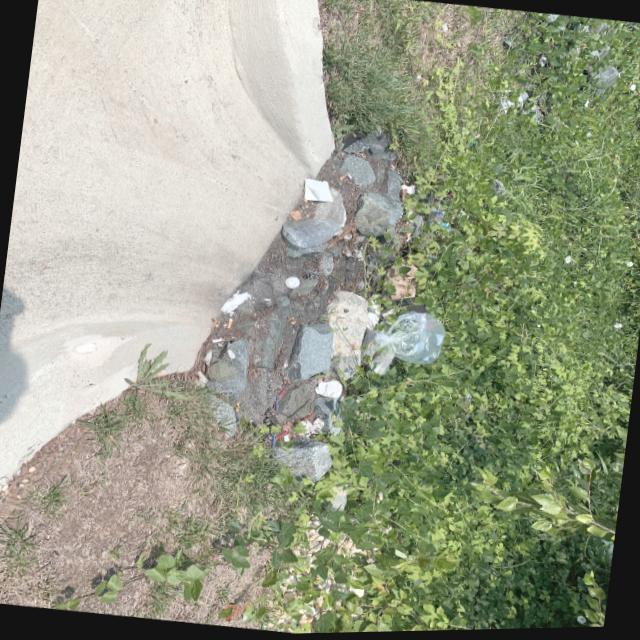Paper: (381, 260, 422, 305), (296, 176, 334, 208), (362, 293, 382, 333), (294, 417, 326, 441), (312, 380, 342, 404), (283, 276, 298, 291)
Plastic: (372, 307, 448, 371), (265, 396, 282, 457), (426, 204, 445, 232)
